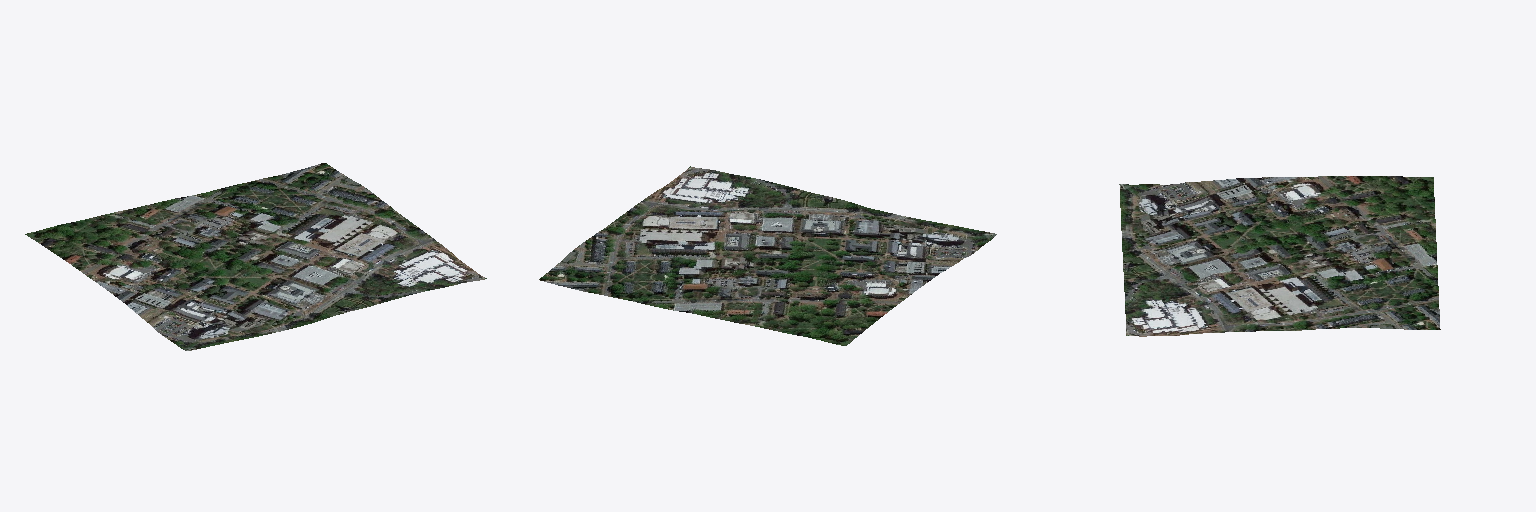
3 views of the same model, side by side, from view 1: azimuth 30°, elevation 25°; view 2: azimuth 150°, elevation 25°; view 3: azimuth 270°, elevation 25° (orthographic).
Visible parts, largest first — view 1: Mesh1 Location_Terrain_1 Model; view 2: Mesh1 Location_Terrain_1 Model; view 3: Mesh1 Location_Terrain_1 Model.
Part boxes in pixels (x1,y1,x2,y2): Mesh1 Location_Terrain_1 Model: (25,163,486,350); Mesh1 Location_Terrain_1 Model: (539,166,996,345); Mesh1 Location_Terrain_1 Model: (1119,176,1440,336).
Size of the model in its own units: 22117 by 718 by 19895.
Materials: 1 (1 with a texture image).